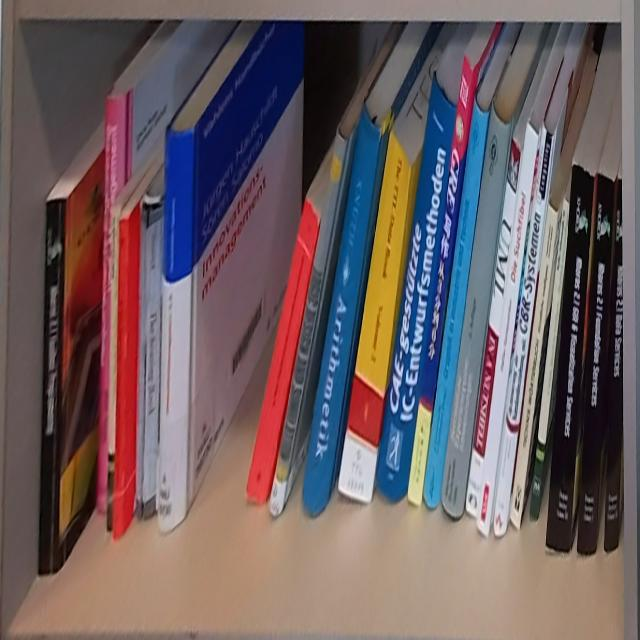Book Spine: (375, 68, 457, 504), (301, 101, 382, 517), (270, 126, 348, 517), (408, 51, 473, 507), (442, 98, 511, 521), (337, 125, 412, 503), (423, 91, 490, 509), (476, 122, 539, 536), (493, 122, 554, 540), (245, 198, 319, 503), (465, 133, 522, 516), (545, 158, 595, 553), (511, 201, 558, 530), (578, 168, 616, 553), (159, 122, 194, 534), (96, 91, 128, 515), (530, 197, 571, 519), (37, 198, 65, 575), (138, 198, 163, 520), (604, 176, 623, 555), (112, 215, 129, 541), (106, 208, 120, 532)
